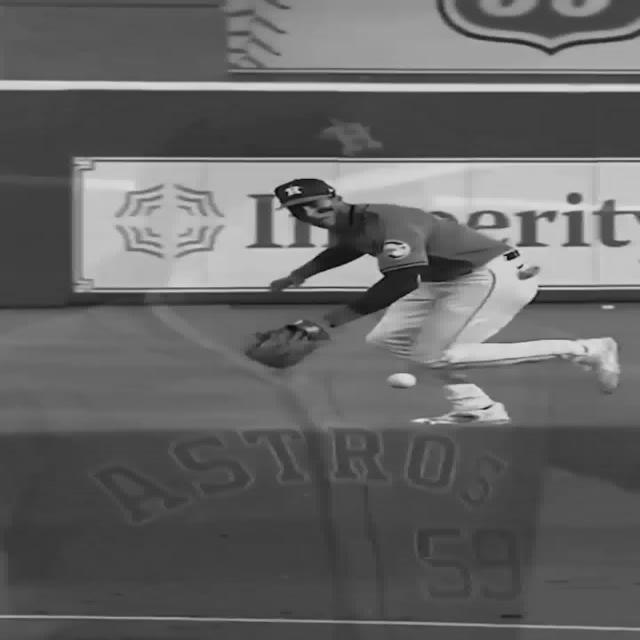baseball: (386, 373, 416, 388)
baseball_glove: (244, 318, 332, 368)
shoe: (573, 336, 621, 393), (408, 401, 509, 425)
